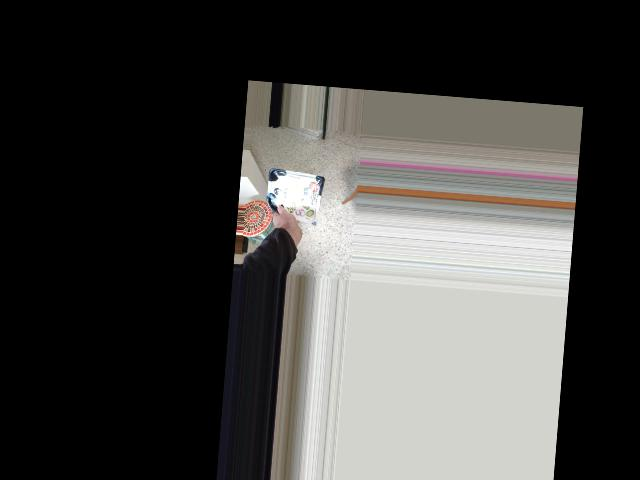cheese: (262, 179, 322, 244)
